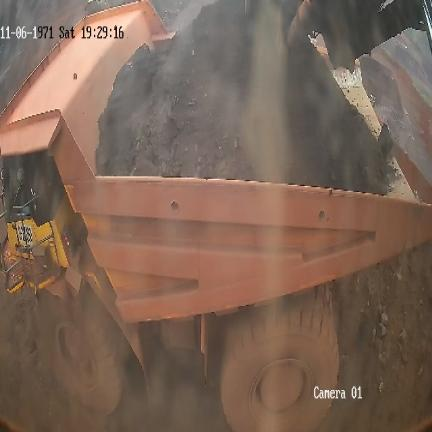pile: (96, 0, 388, 196), (334, 244, 432, 420)
